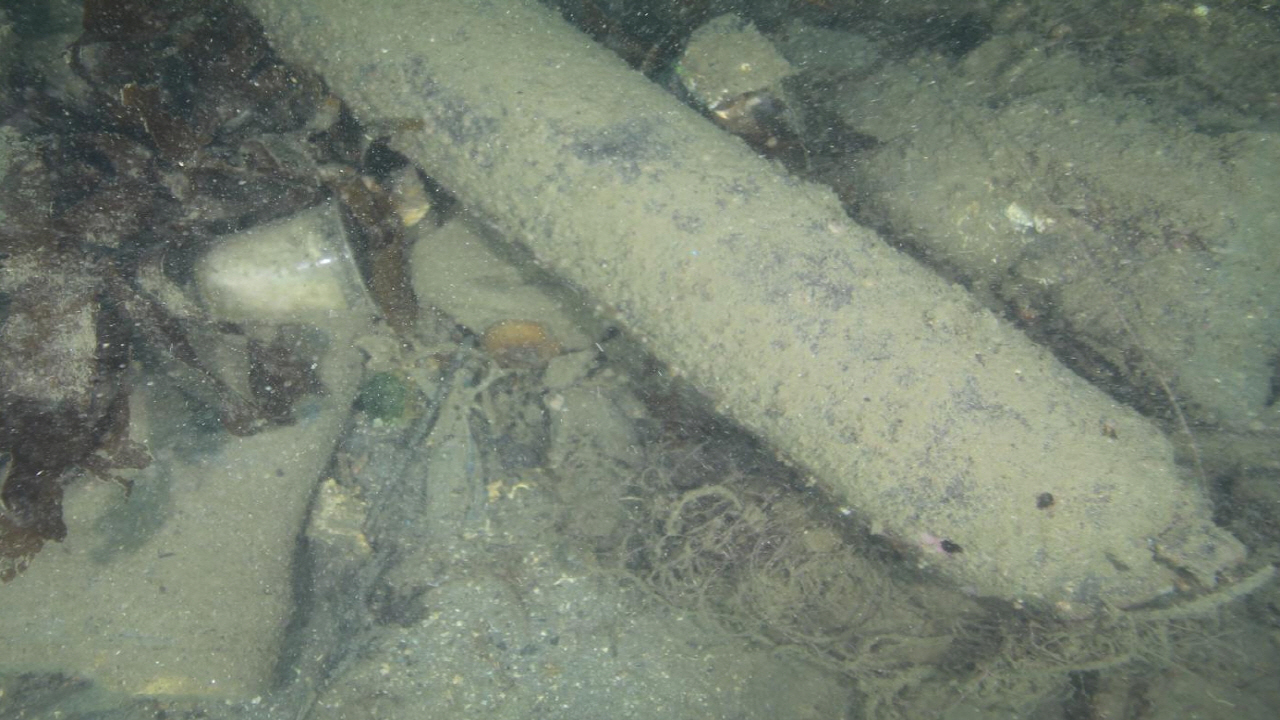eel fish trap: (240, 0, 1248, 618)
